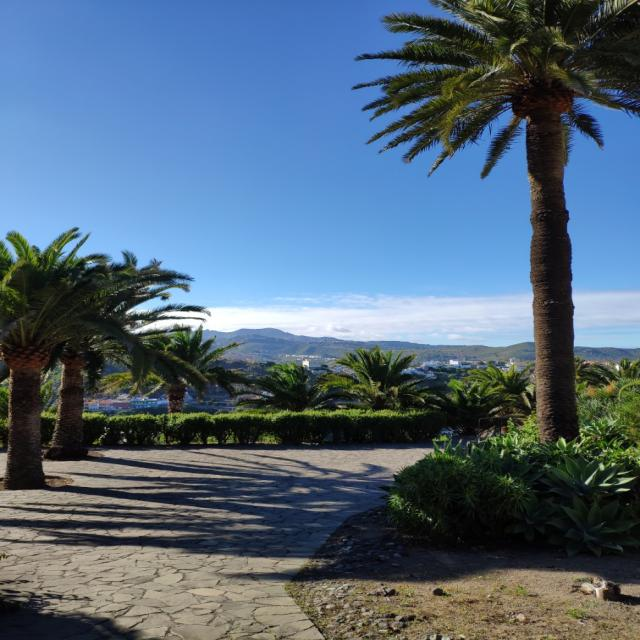Palm-Trees: (361, 0, 640, 443), (1, 254, 156, 456), (107, 325, 249, 414), (333, 346, 430, 412)
